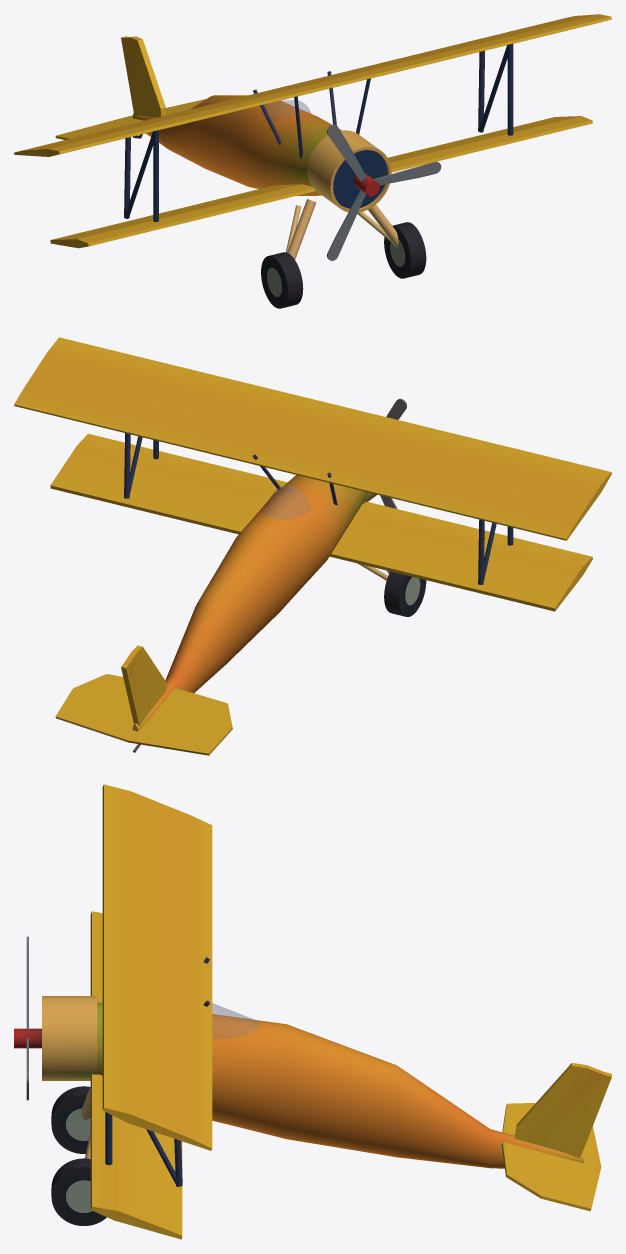
3 renders of one model, top to bottom at view 1: azimuth 30°, elevation 25°; view 2: azimuth 150°, elevation 25°; view 3: azimuth 270°, elevation 25°, orthographic. The views are drawn at different scales.
Visible parts, largest first — view 1: skin, upper_airfoil, lower_airfoil, rim, fin, engine, tire.001, tire, tailplane, blade.003, blade.001, blade.002 (+9 smaller); view 2: upper_airfoil, lower_airfoil, skin, tailplane, fin, tire.001, canopy; view 3: upper_airfoil, skin, lower_airfoil, fin, tailplane, rim, tire, tire.001, canopy, wheel_hub, wheel_hub.001.
Part boxes in pixels (box(x1,y1,x2,y2)): skin: box(132, 95, 341, 195); upper_airfoil: box(14, 14, 611, 156); lower_airfoil: box(50, 116, 592, 248); rim: box(307, 130, 391, 212); fin: box(121, 36, 166, 117); engine: box(333, 150, 387, 208); tire.001: box(261, 252, 303, 308); tire: box(384, 222, 426, 278); tailplane: box(55, 99, 205, 139); blade.003: box(327, 190, 365, 260); blade.001: box(374, 161, 441, 185); blade.002: box(327, 124, 366, 181); upper_airfoil: box(14, 337, 611, 540); lower_airfoil: box(50, 433, 592, 611); skin: box(132, 475, 366, 731); tailplane: box(55, 674, 232, 755); fin: box(121, 645, 166, 726); tire.001: box(384, 571, 426, 616); canopy: box(262, 486, 310, 519); upper_airfoil: box(102, 784, 212, 1150); skin: box(97, 1002, 583, 1168); lower_airfoil: box(90, 911, 182, 1239); fin: box(515, 1063, 611, 1158); tailplane: box(501, 1103, 601, 1211); rim: box(42, 996, 97, 1080); tire: box(51, 1158, 106, 1225); tire.001: box(51, 1086, 89, 1153); canopy: box(212, 1003, 258, 1039); wheel_hub: box(66, 1180, 92, 1212); wheel_hub.001: box(66, 1108, 90, 1140).
Size of the model in its own units: 9 by 3.13 by 7.04.
